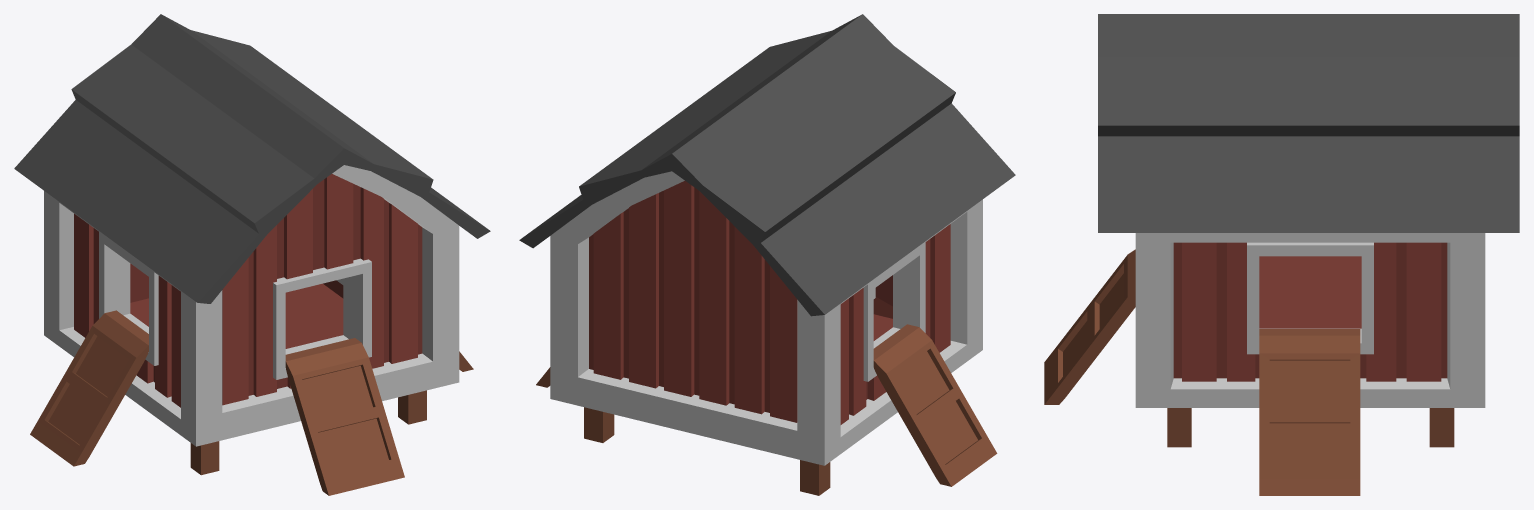
File: coop.glb
3 renders of one model, left to right at view 1: azimuth 30°, elevation 25°; view 2: azimuth 150°, elevation 25°; view 3: azimuth 270°, elevation 25°, orthographic. The views are drawn at different scales.
Parts seen in each view (by area): view 1: ChickenCoop; view 2: ChickenCoop; view 3: ChickenCoop.
Boxes of the visible parts, bbox=[...] form: ChickenCoop: bbox=[14, 14, 490, 495]; ChickenCoop: bbox=[519, 14, 1015, 495]; ChickenCoop: bbox=[1044, 14, 1519, 495].
Size of the model in its own units: 241 by 185 by 215.
